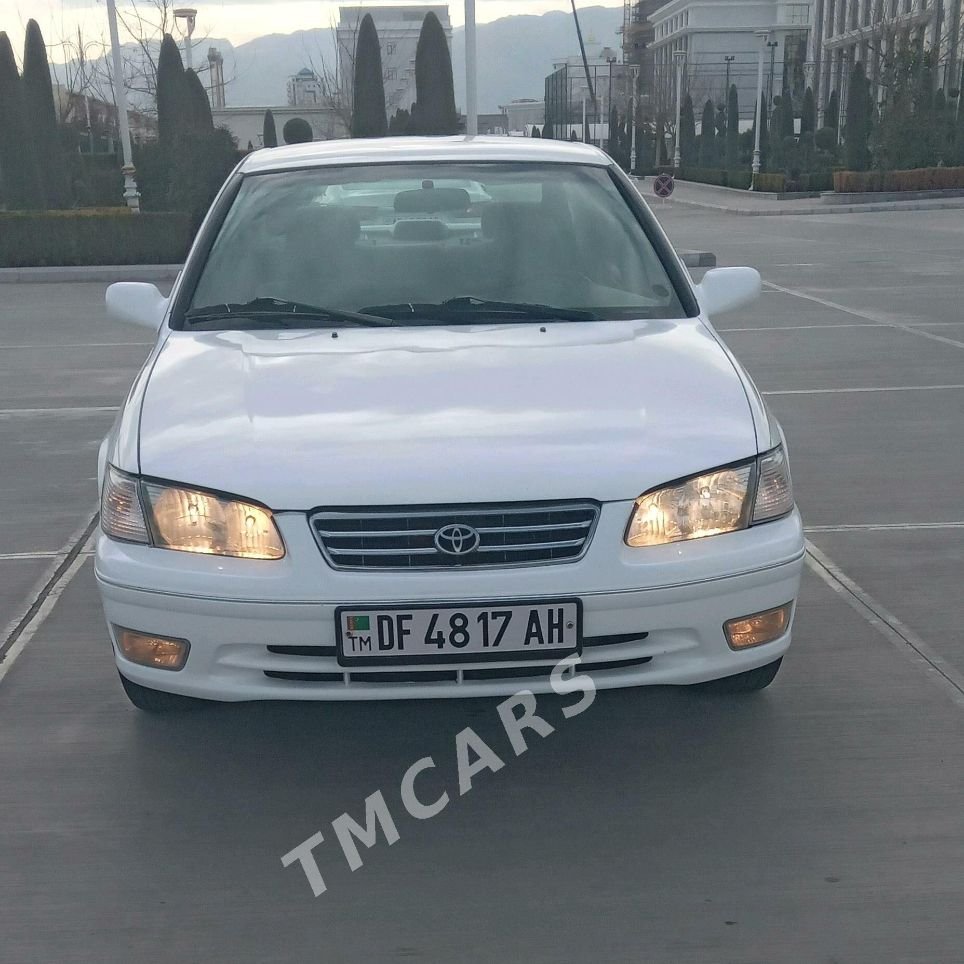license plate: (333, 599, 579, 661)
truck: (79, 137, 792, 709)
